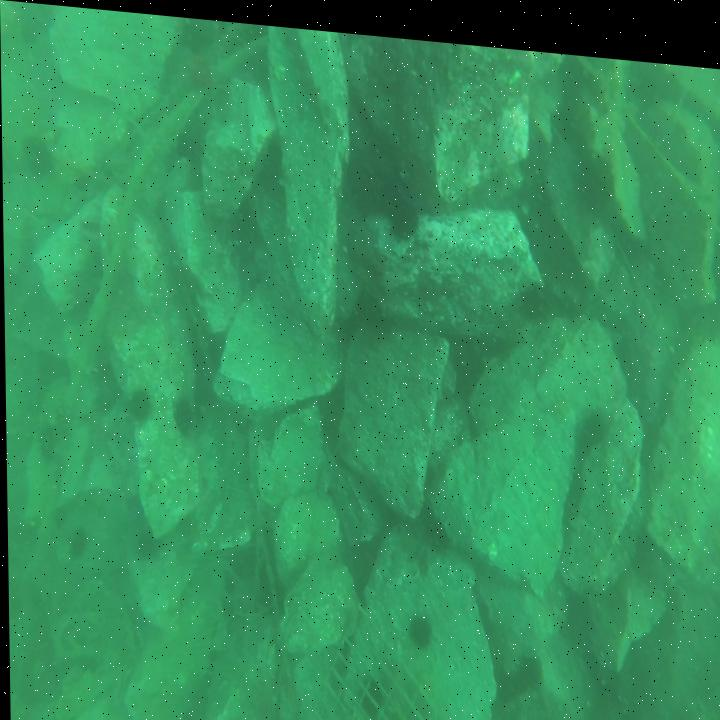echinus: (385, 176, 417, 235), (24, 135, 50, 178), (357, 670, 382, 711), (517, 641, 542, 679), (408, 601, 431, 642), (172, 393, 192, 435), (127, 385, 150, 421), (37, 421, 55, 462), (137, 524, 157, 557), (66, 526, 85, 553)
